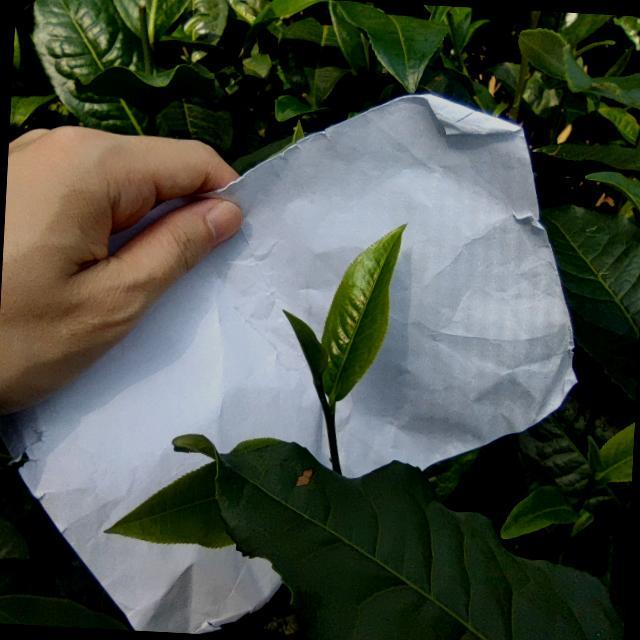Stem: (325, 406, 334, 416)
